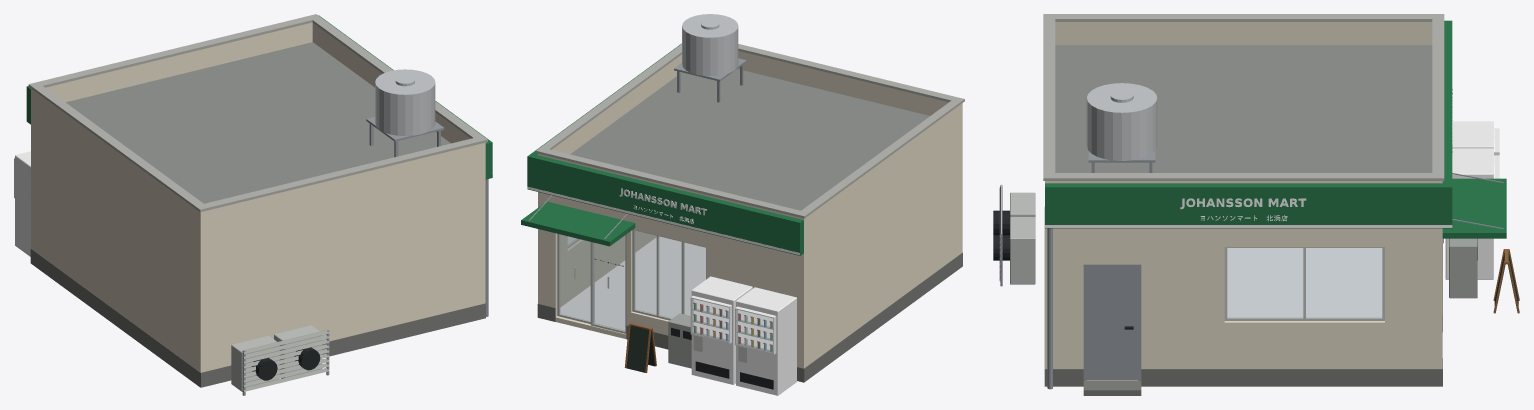
File: kitahama-shop-exterior.glb
The picture shows the model from 3 angles, left to right: view 1: azimuth 30°, elevation 25°; view 2: azimuth 150°, elevation 25°; view 3: azimuth 270°, elevation 25°; orthographic projection. The views are drawn at different scales.
Parts seen in each view (by area): view 1: KitahamaShopExterior / cream render, KitahamaShopExterior / roof screed, KitahamaShopExterior / parapet cap, KitahamaShopExterior / plinth grey, KitahamaShopExterior / stainless, KitahamaShopExterior / screen, KitahamaShopExterior / unit grey, KitahamaShopExterior / white, KitahamaShopExterior / steel grey, KitahamaShopExterior / dark, KitahamaShopExterior / house green; view 2: KitahamaShopExterior / cream render, KitahamaShopExterior / roof screed, KitahamaShopExterior / glass, KitahamaShopExterior / house green, KitahamaShopExterior / white, KitahamaShopExterior / parapet cap, KitahamaShopExterior / stainless, KitahamaShopExterior / plinth grey, KitahamaShopExterior / aluminium, KitahamaShopExterior / display back, KitahamaShopExterior / bin grey, KitahamaShopExterior / blackboard (+3 smaller); view 3: KitahamaShopExterior / cream render, KitahamaShopExterior / roof screed, KitahamaShopExterior / house green, KitahamaShopExterior / glass, KitahamaShopExterior / parapet cap, KitahamaShopExterior / steel grey, KitahamaShopExterior / plinth grey, KitahamaShopExterior / white, KitahamaShopExterior / stainless, KitahamaShopExterior / unit grey, KitahamaShopExterior / bin grey, KitahamaShopExterior / aluminium (+2 smaller).
Boxes of the visible parts, box(x1,y1,x2,y2) form: KitahamaShopExterior / cream render: box(31, 22, 485, 372); KitahamaShopExterior / roof screed: box(66, 42, 450, 203); KitahamaShopExterior / parapet cap: box(28, 14, 487, 212); KitahamaShopExterior / plinth grey: box(30, 248, 485, 387); KitahamaShopExterior / stainless: box(375, 69, 435, 135); KitahamaShopExterior / screen: box(243, 329, 329, 391); KitahamaShopExterior / unit grey: box(231, 325, 322, 391); KitahamaShopExterior / white: box(14, 151, 492, 256); KitahamaShopExterior / steel grey: box(242, 117, 488, 395); KitahamaShopExterior / dark: box(251, 347, 320, 380); KitahamaShopExterior / house green: box(26, 15, 492, 178); KitahamaShopExterior / cream render: box(538, 51, 962, 368); KitahamaShopExterior / roof screed: box(570, 69, 929, 210); KitahamaShopExterior / glass: box(559, 230, 773, 352); KitahamaShopExterior / house green: box(521, 43, 803, 255); KitahamaShopExterior / white: box(527, 186, 799, 395); KitahamaShopExterior / parapet cap: box(535, 44, 964, 218); KitahamaShopExterior / stainless: box(682, 14, 738, 76); KitahamaShopExterior / plinth grey: box(537, 252, 962, 382); KitahamaShopExterior / aluminium: box(557, 229, 773, 352); KitahamaShopExterior / display back: box(693, 299, 774, 349); KitahamaShopExterior / bin grey: box(668, 313, 691, 368); KitahamaShopExterior / blackboard: box(626, 325, 654, 372); KitahamaShopExterior / cream render: box(1045, 22, 1442, 380); KitahamaShopExterior / roof screed: box(1055, 45, 1432, 172); KitahamaShopExterior / house green: box(1045, 20, 1506, 238); KitahamaShopExterior / glass: box(1227, 248, 1382, 317); KitahamaShopExterior / parapet cap: box(1043, 14, 1444, 180); KitahamaShopExterior / steel grey: box(1000, 151, 1503, 389); KitahamaShopExterior / plinth grey: box(1044, 207, 1442, 395); KitahamaShopExterior / white: box(1045, 89, 1499, 279); KitahamaShopExterior / stainless: box(1086, 83, 1157, 160); KitahamaShopExterior / unit grey: box(1010, 192, 1035, 284); KitahamaShopExterior / bin grey: box(1449, 238, 1477, 298); KitahamaShopExterior / aluminium: box(1224, 238, 1443, 320).
Bounding box in the file's own units: 6.38 × 4.55 × 8.21.
